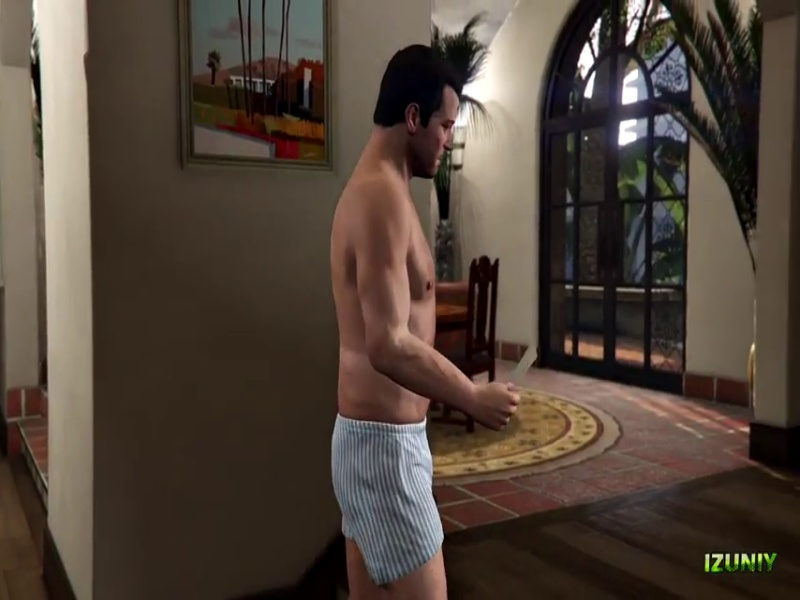human: (325, 39, 512, 594)
